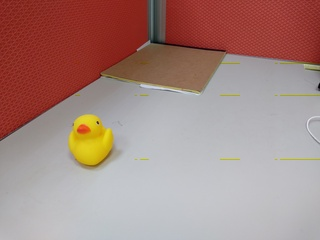duck: (62, 112, 117, 169)
